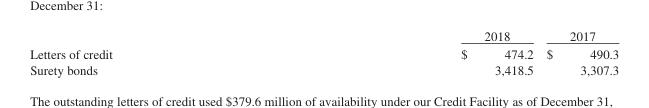table: (29, 28, 618, 76)
table column: (29, 28, 286, 76), (286, 28, 539, 76), (539, 28, 618, 76)
table column header: (29, 28, 618, 44)
table row: (29, 44, 618, 61), (29, 28, 618, 44), (29, 61, 618, 76)
